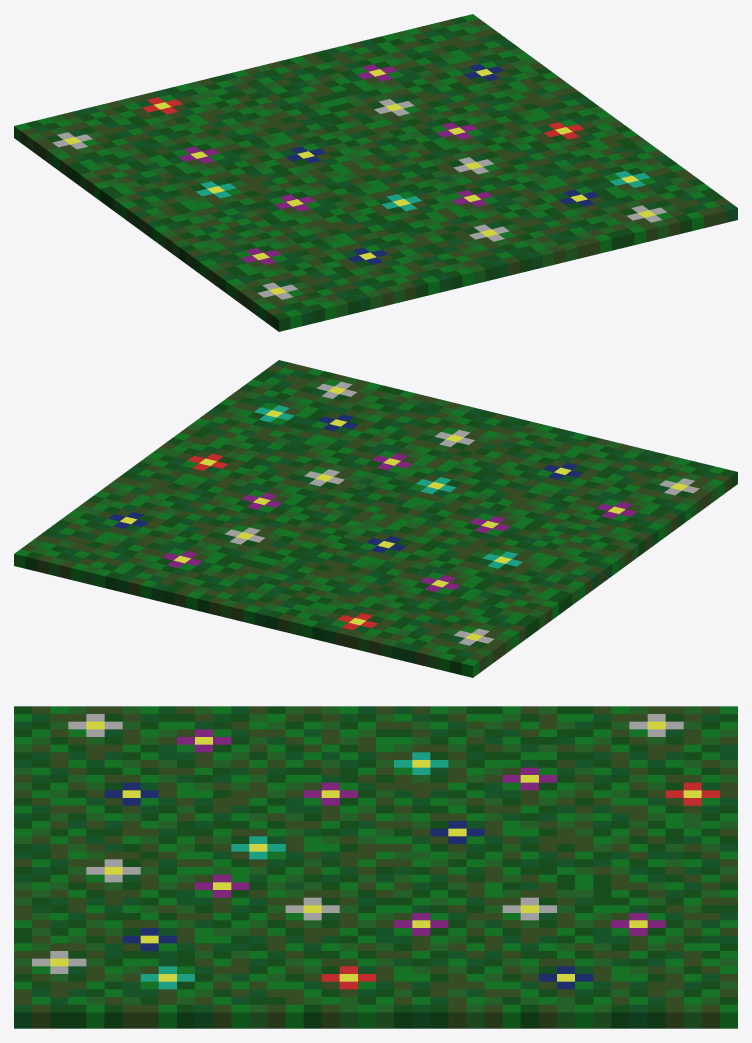
Rendered from flower_plane.obj.
The picture shows the model from 3 angles, top to bottom: view 1: azimuth 30°, elevation 25°; view 2: azimuth 150°, elevation 25°; view 3: azimuth 270°, elevation 25°; orthographic projection. The views are drawn at different scales.
Bounding box in the file's own units: 4 × 0.1 × 4.
